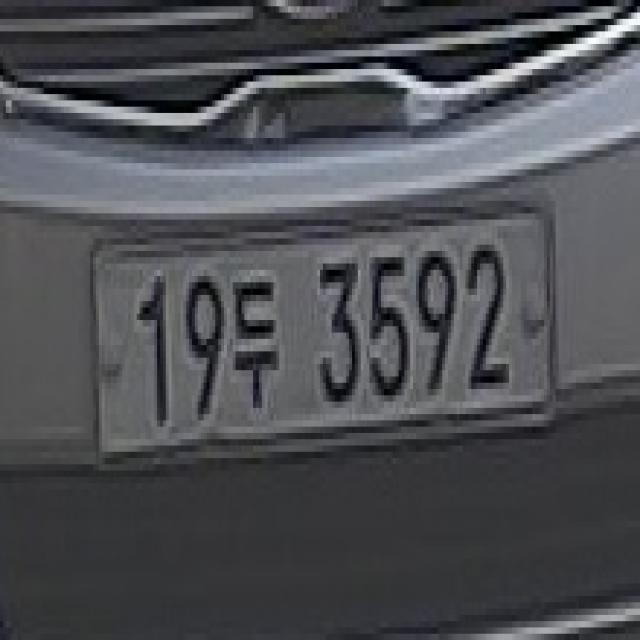plat: (86, 191, 559, 467)
